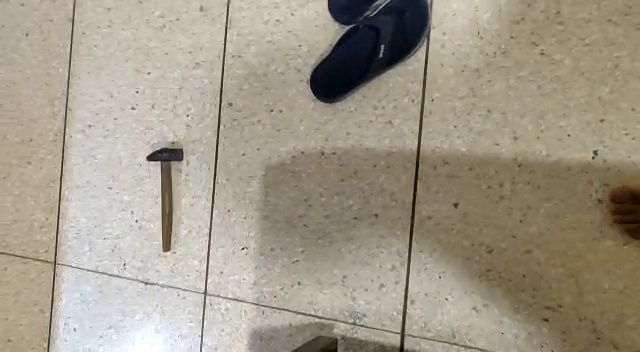hammer: (145, 145, 187, 253)
